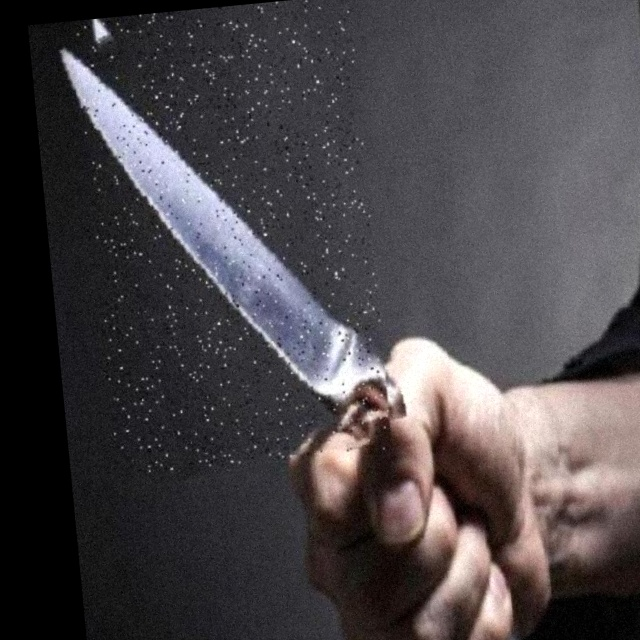Sharp-Object: (72, 0, 392, 476)
